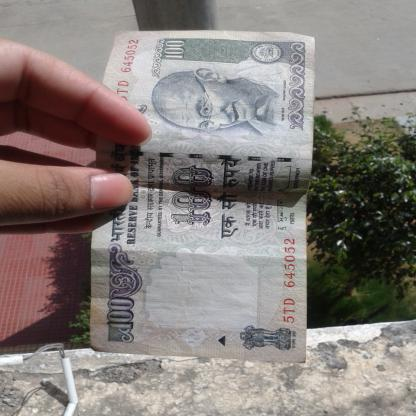Old100Front: (88, 29, 318, 365)
